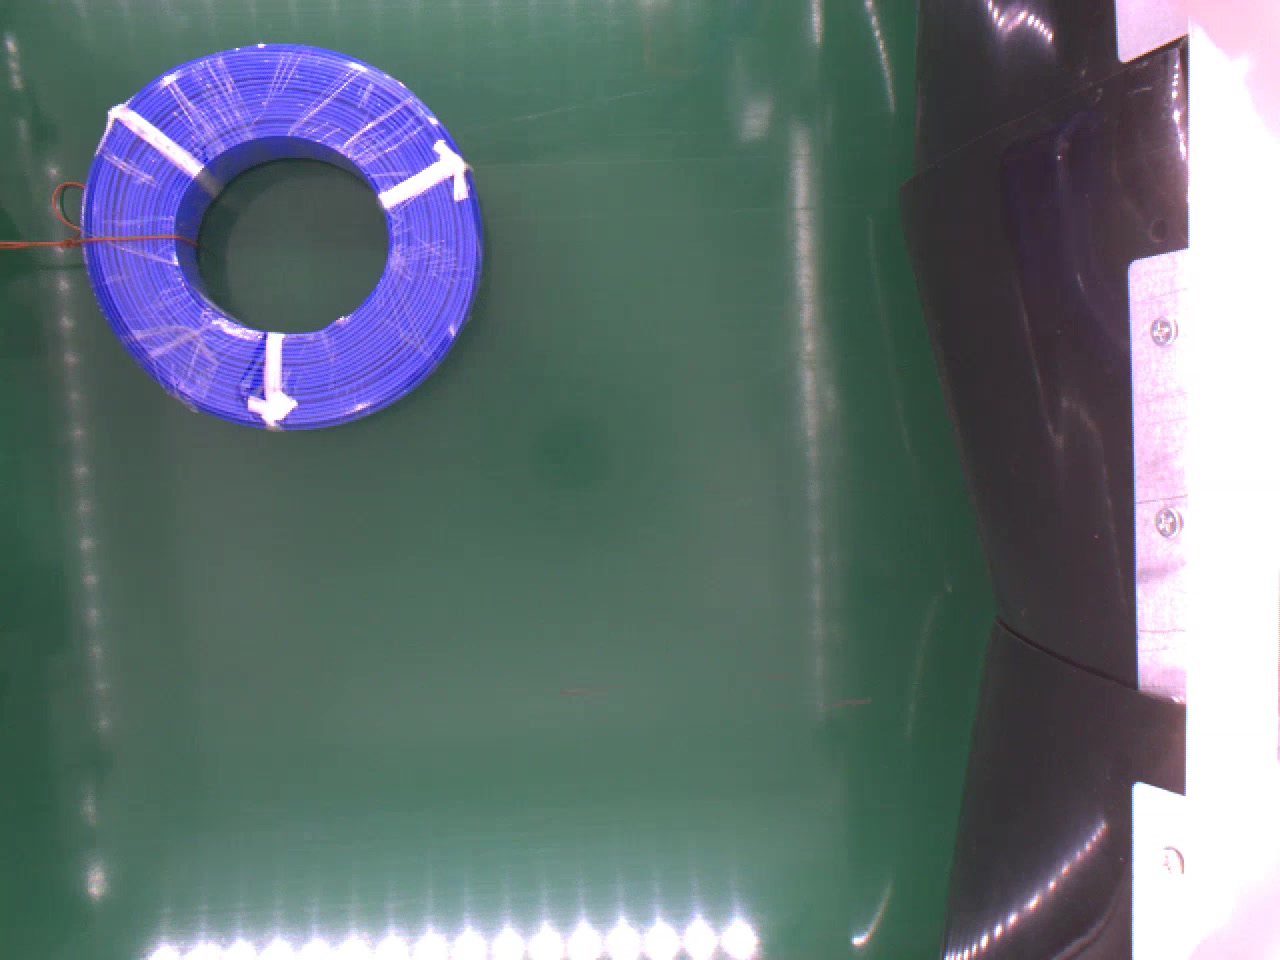blue: (81, 42, 484, 432)
